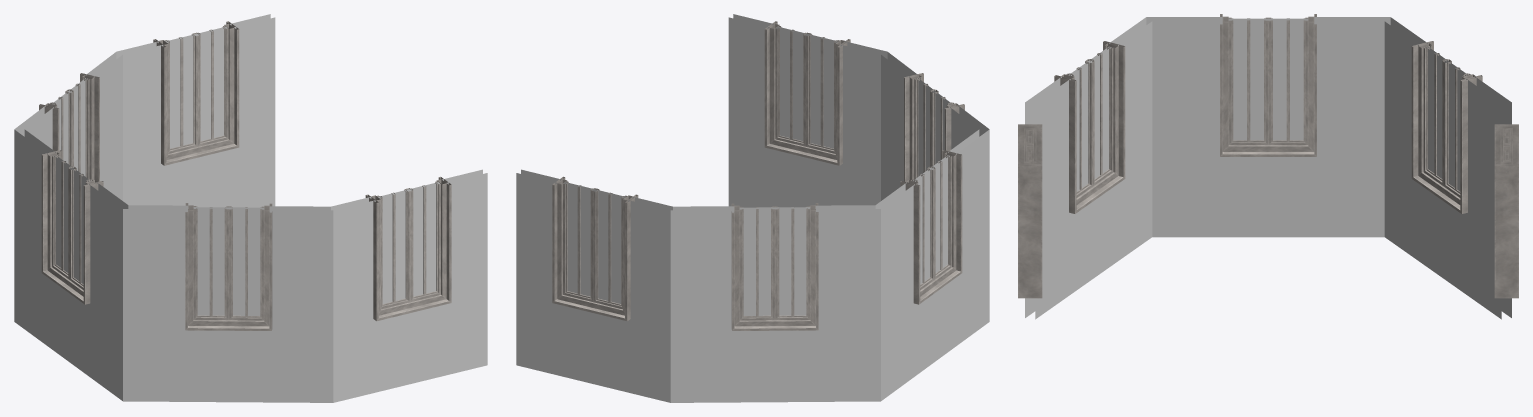
The model's file is Ambulatory_Inner_A_F.fbx.
3 views of the same model, side by side, from view 1: azimuth 30°, elevation 25°; view 2: azimuth 150°, elevation 25°; view 3: azimuth 270°, elevation 25° (orthographic). The views are drawn at different scales.
Parts seen in each view (by area): view 1: Ambulatory_Inner_A_F; view 2: Ambulatory_Inner_A_F; view 3: Ambulatory_Inner_A_F.
Boxes of the visible parts, x1=… form: Ambulatory_Inner_A_F: x1=14, y1=14, x2=487, y2=402; Ambulatory_Inner_A_F: x1=516, y1=14, x2=989, y2=402; Ambulatory_Inner_A_F: x1=1018, y1=14, x2=1518, y2=319.
Size of the model in its own units: 10.31 by 12.61 by 6.
